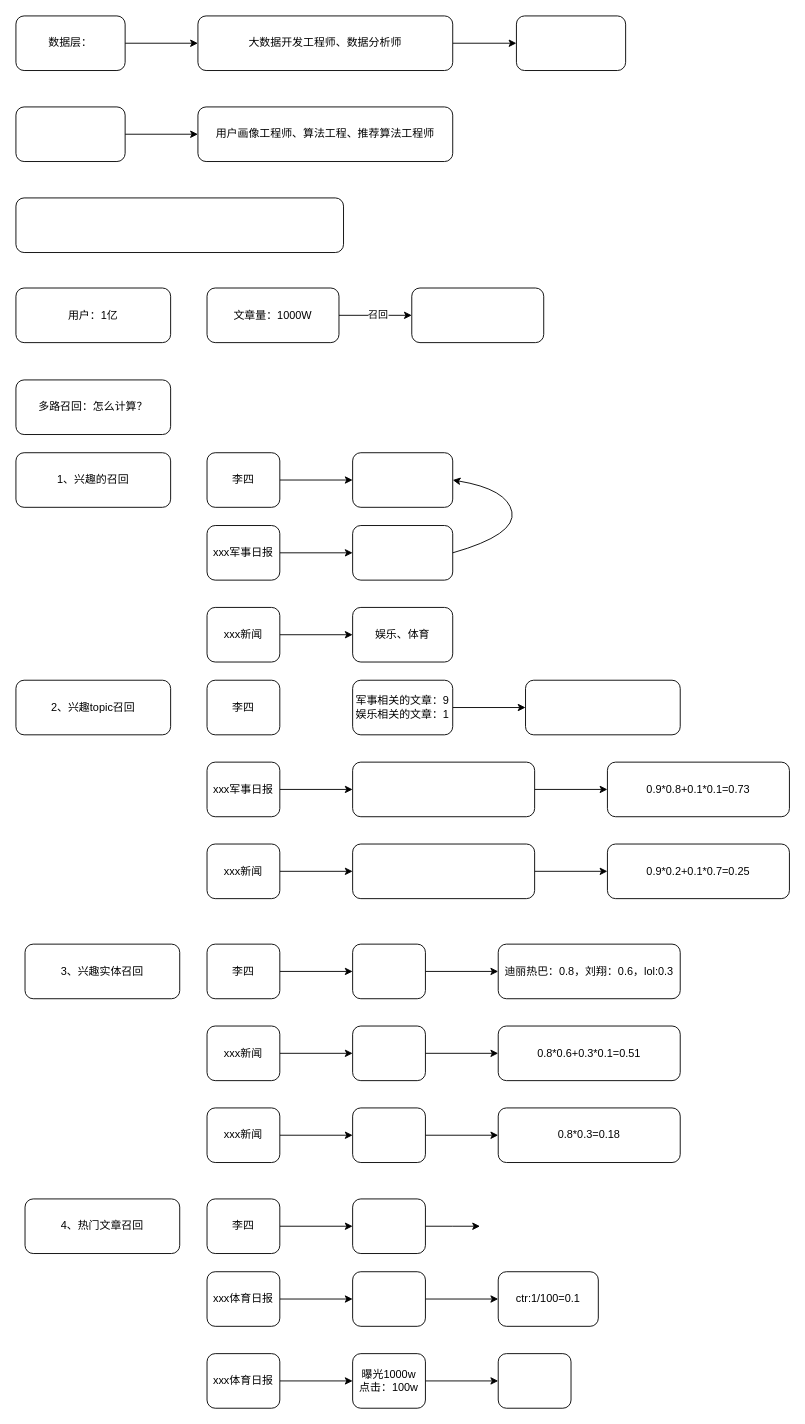
Some shapes in this 805 by 1424 pixel diagram are drawn without their labels. Each missing label, with the centre of its shape:
100左右的文章: the point at 477,315
ctr:1/10=0.1: the point at 534,1380
lol:0.1,迪丽热巴：0.6: the point at 388,1053
体育: the point at 388,1226
军事 、政治: the point at 402,479
军事、政治: the point at 402,552
军事：0.2，政治：0.2，娱乐：0.7: the point at 443,871
军事：0.8，政治：0.1，娱乐：0.1: the point at 443,789
军事：0.9，娱乐：0.1: the point at 602,707
刘翔：0.3，姚明：0.5: the point at 388,1135
大数据生态: the point at 571,43
微博：基于用户的个性化push推荐: the point at 179,225
曝光1000w 点击：10w: the point at 388,1298
策略层: the point at 70,134
迪丽热巴:8，lol:3,刘翔：6: the point at 388,971
